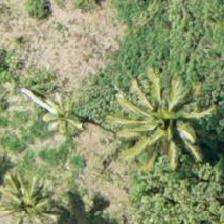coconut_tree: (123, 78, 213, 168), (15, 74, 105, 164), (0, 157, 64, 223)
